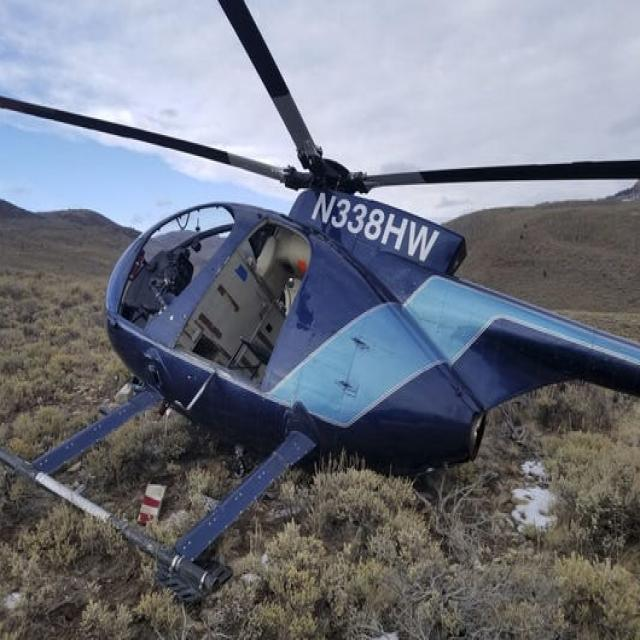helicopter: (2, 1, 636, 575)
